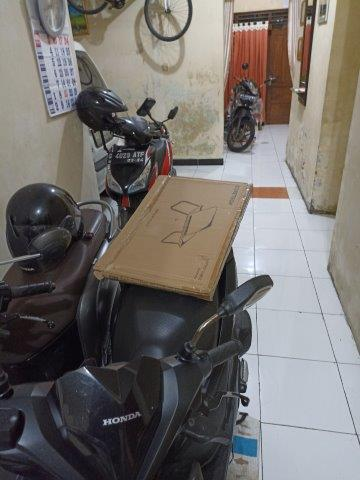kardus: (95, 175, 249, 298)
